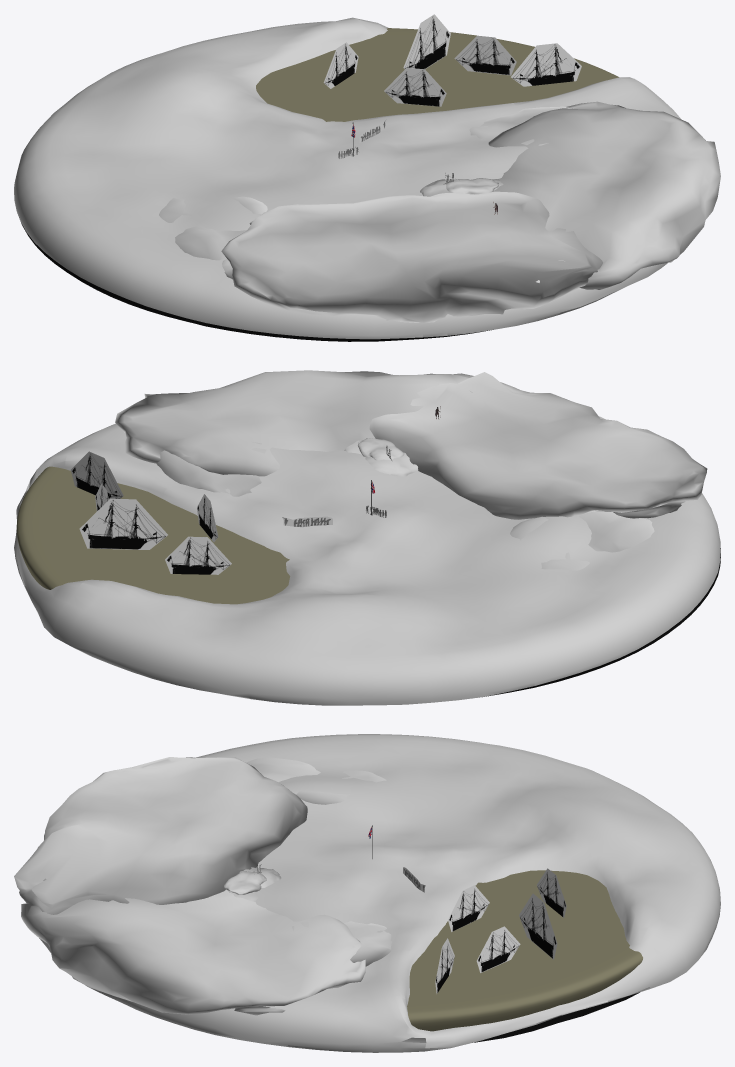
File: Australian_invasion_v5.dae
3 views of the same model, one above another, from view 1: azimuth 30°, elevation 25°; view 2: azimuth 150°, elevation 25°; view 3: azimuth 270°, elevation 25° (orthographic). The views are drawn at different scales.
Parts seen in each view (by area): view 1: Terrain, Rocks, Water, Objects; view 2: Terrain, Rocks, Water, Objects; view 3: Terrain, Rocks, Water, Objects.
Boxes of the visible parts, <box> form: Terrain: <box>14,17,681,341</box>; Rocks: <box>159,101,720,322</box>; Water: <box>256,28,618,121</box>; Objects: <box>323,14,581,214</box>; Terrain: <box>14,391,720,705</box>; Rocks: <box>115,370,707,570</box>; Water: <box>16,466,290,604</box>; Objects: <box>70,406,440,574</box>; Terrain: <box>39,734,720,1052</box>; Rocks: <box>14,757,391,1015</box>; Water: <box>407,870,642,1031</box>; Objects: <box>257,825,566,993</box>.
Size of the model in its own units: 10.02 by 1.32 by 10.13.
